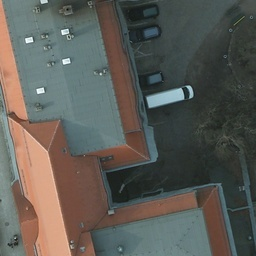car: (135, 70, 164, 93), (125, 4, 161, 22), (127, 27, 162, 41)
van: (144, 84, 193, 108)
